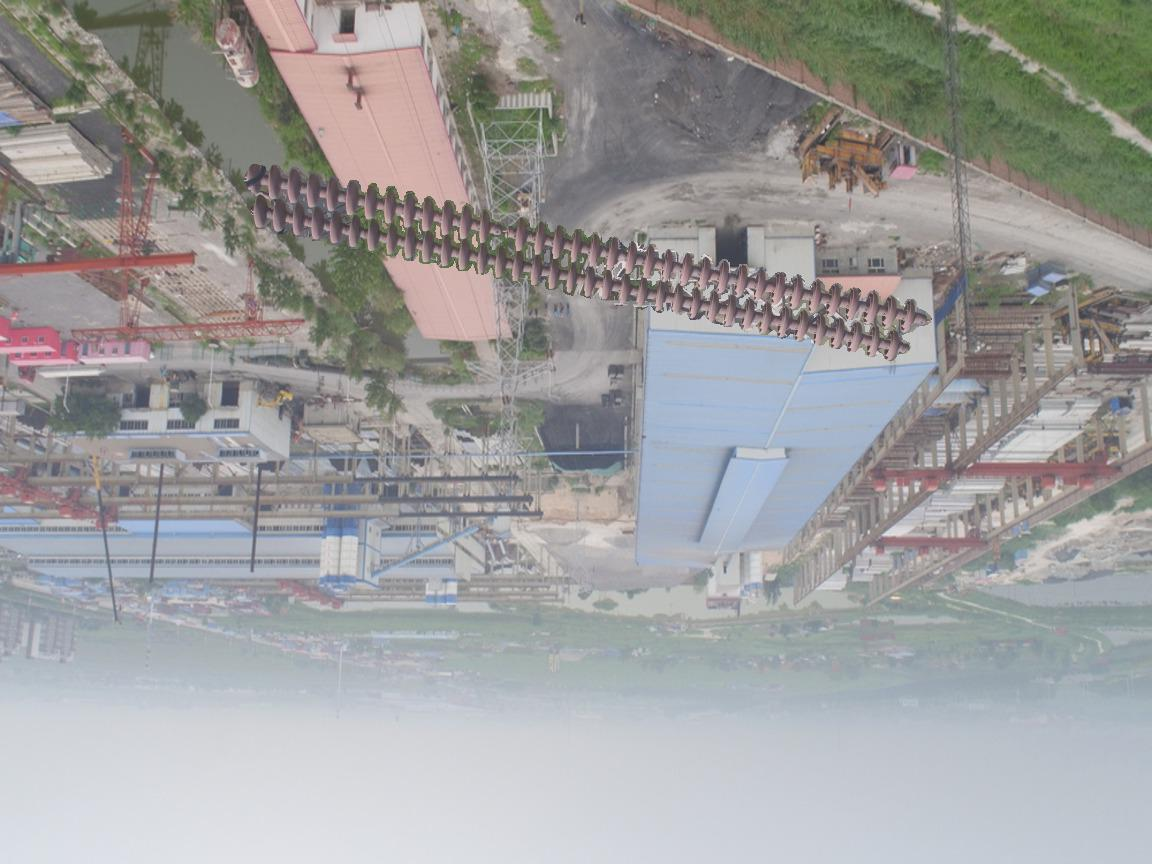insulator: (240, 158, 922, 365)
insulator_stringdrop: (475, 205, 530, 254)
